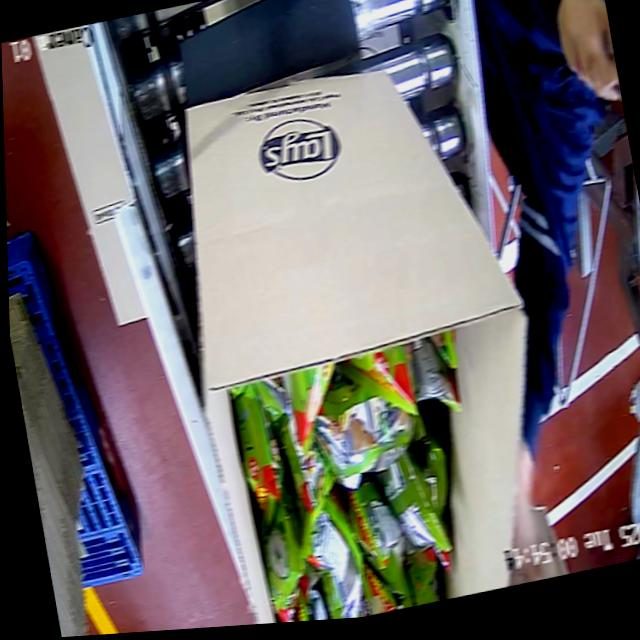YOGURT_HERB: (229, 335, 464, 625)
